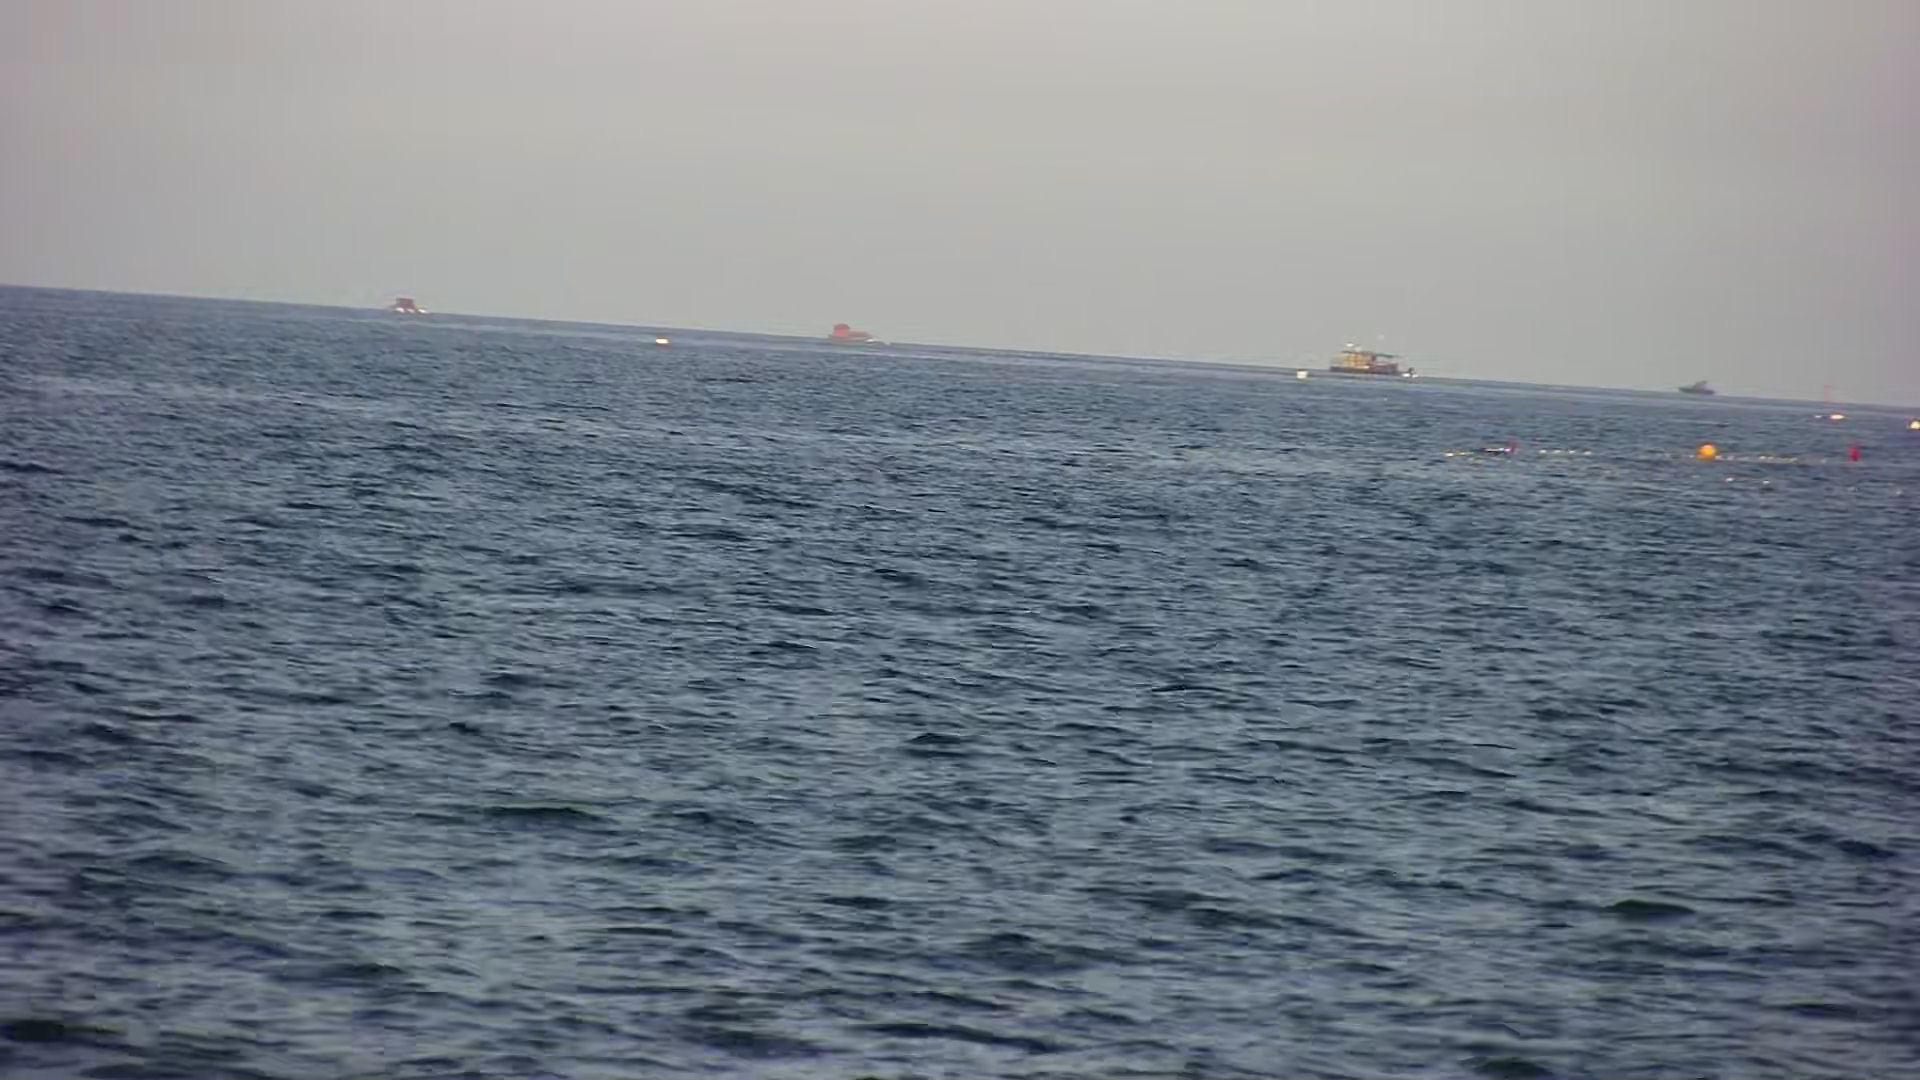ball: (1697, 436, 1725, 467)
platform: (1291, 331, 1425, 386), (808, 320, 889, 355), (378, 281, 427, 320)
ship: (1675, 368, 1720, 396)
